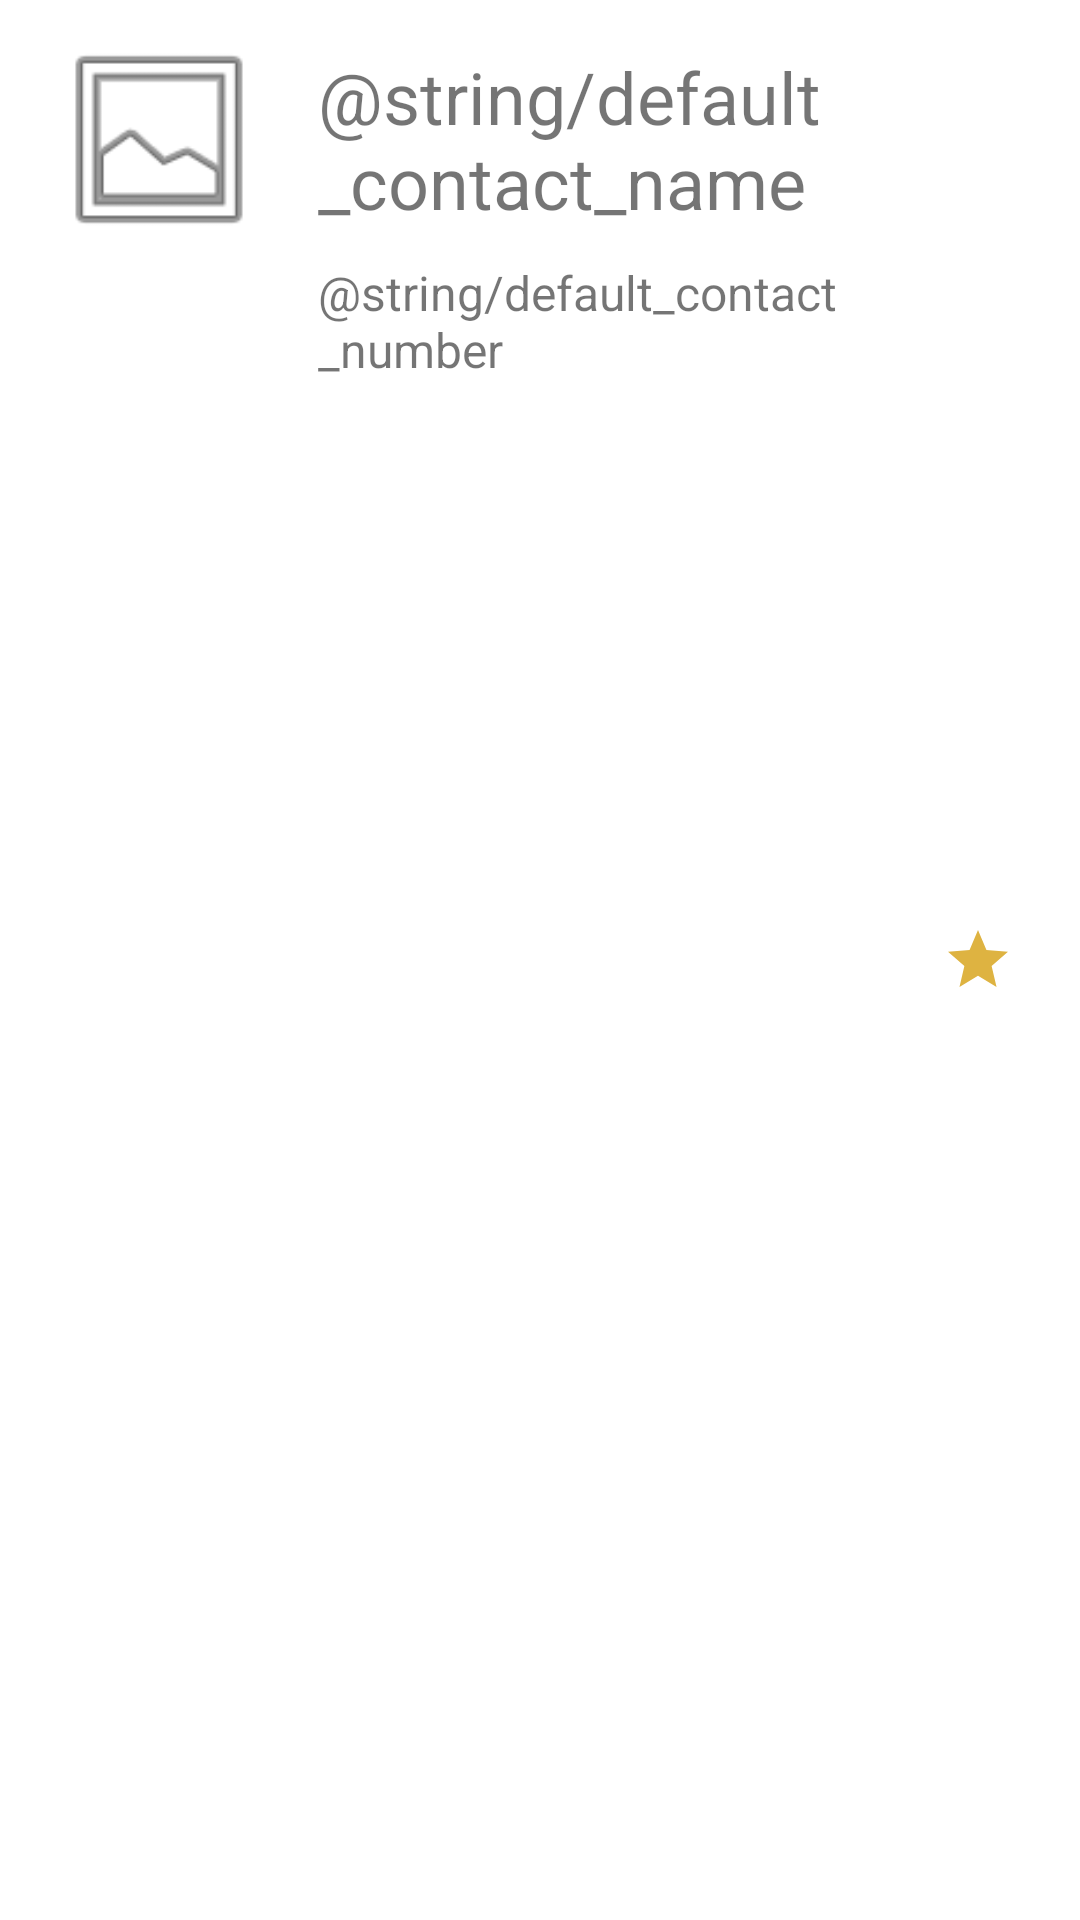

Where to tap for icons on this 1080px×1920px app screen, as [x,y]:
gallery: [159,139]
star: [978,958]
